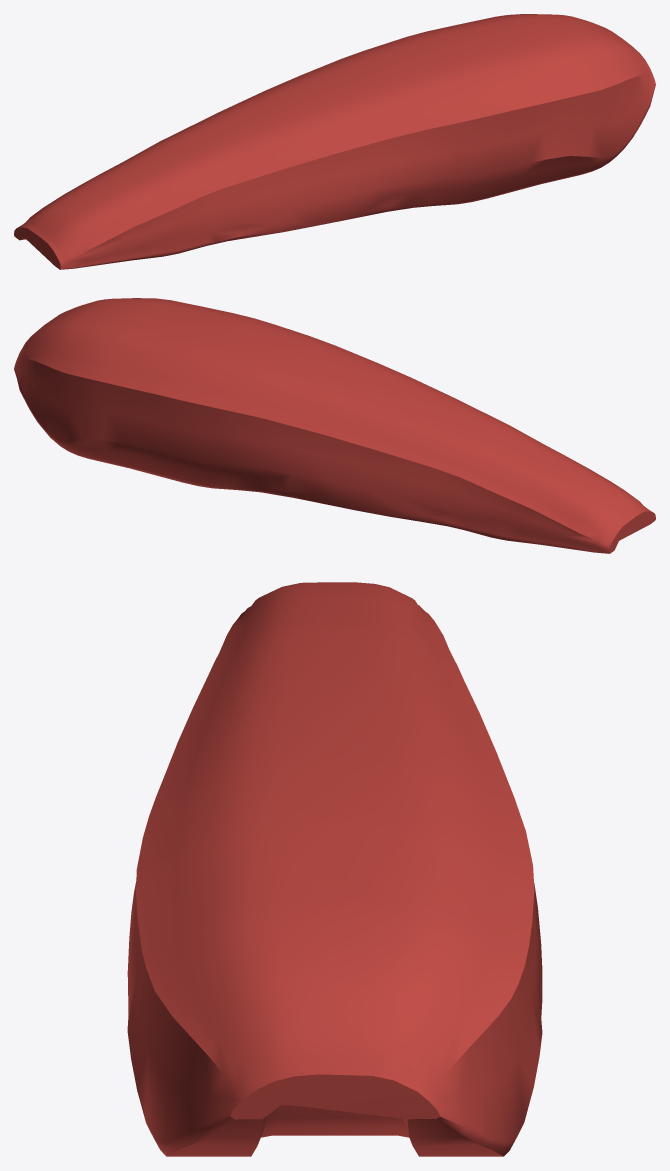
The model's file is bobber_2_lod2.glb.
The picture shows the model from 3 angles, top to bottom: view 1: azimuth 30°, elevation 25°; view 2: azimuth 150°, elevation 25°; view 3: azimuth 270°, elevation 25°; orthographic projection. The views are drawn at different scales.
Visible parts, largest first — view 1: bobber_2_lod2; view 2: bobber_2_lod2; view 3: bobber_2_lod2.
Boxes of the visible parts, box(x1,y1,x2,y2) form: bobber_2_lod2: box(14, 14, 655, 269); bobber_2_lod2: box(14, 298, 655, 553); bobber_2_lod2: box(127, 582, 542, 1156).
Bounding box in the file's own units: 1.06 × 0.2024 × 0.3231.
